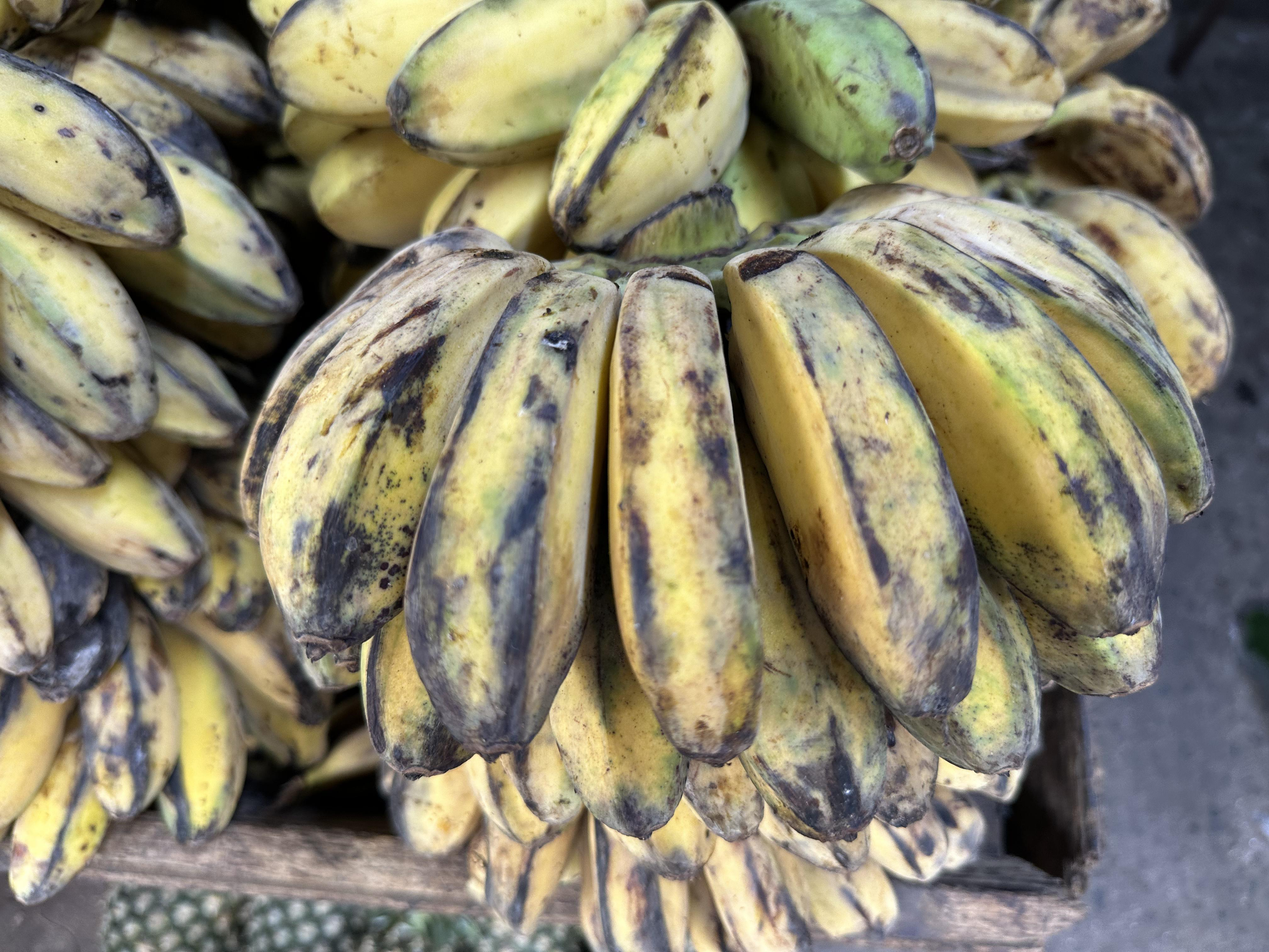ripe: (389, 756, 986, 952), (0, 498, 246, 904), (984, 0, 1233, 397), (134, 514, 332, 768)
underripe: (241, 184, 1213, 842), (250, 0, 1063, 255), (0, 50, 298, 580)
